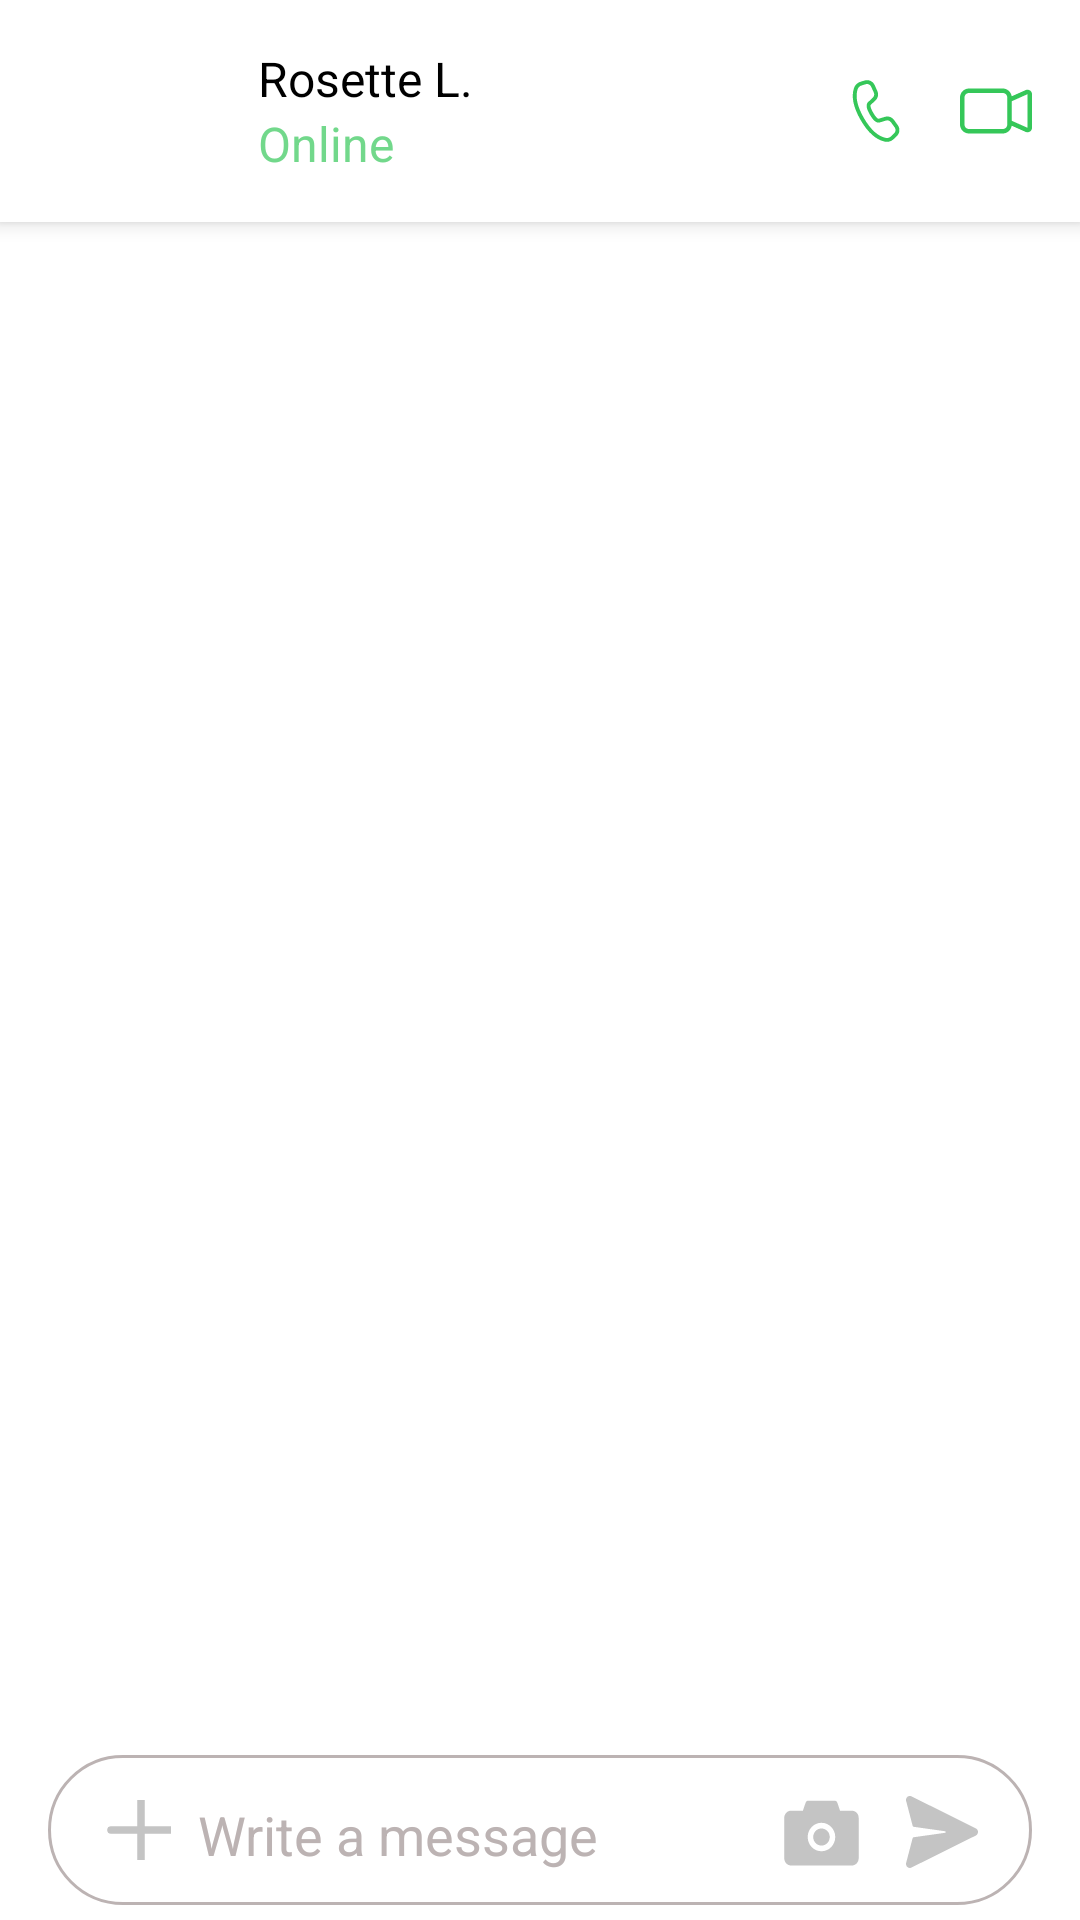

Named icons in this screenshot (1080w x 1920h) and their bounding boxes, [left=x1, top=y1, right=x2, bottom=y2]:
add: [left=107, top=1800, right=171, bottom=1860]
call: [left=852, top=80, right=900, bottom=142]
camera: [left=784, top=1801, right=859, bottom=1866]
send: [left=906, top=1796, right=978, bottom=1868]
video camera: [left=960, top=88, right=1032, bottom=134]
